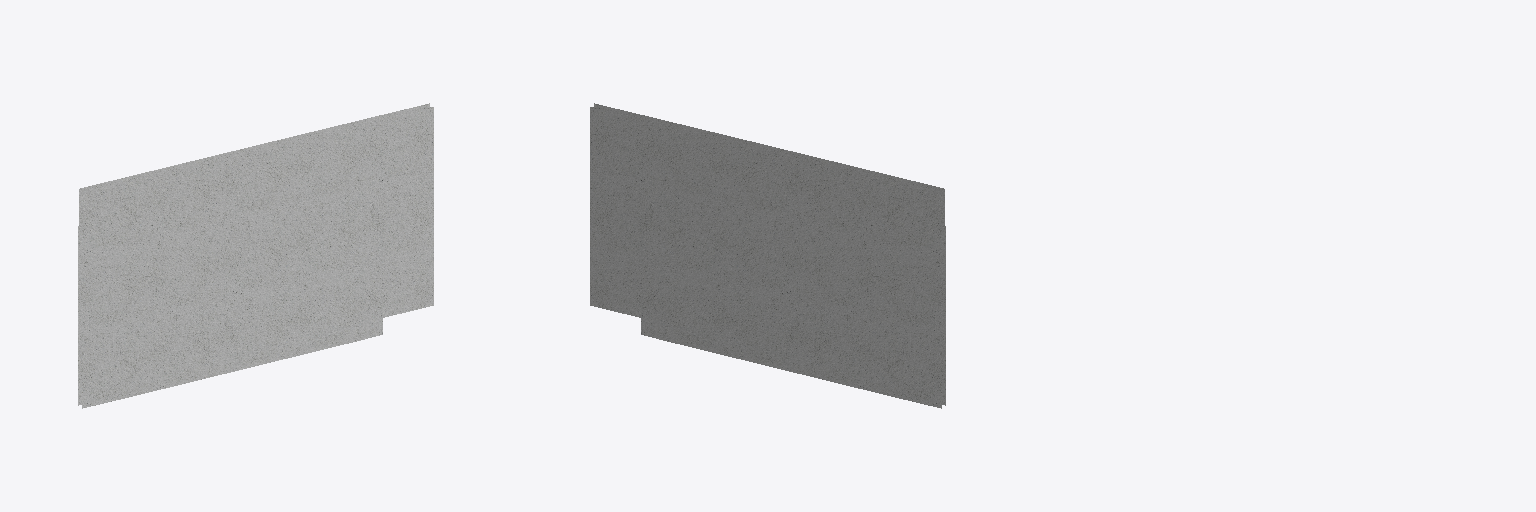
3 views of the same model, side by side, from view 1: azimuth 30°, elevation 25°; view 2: azimuth 150°, elevation 25°; view 3: azimuth 270°, elevation 25° (orthographic).
Parts seen in each view (by area): view 1: floor_8; view 2: floor_8; view 3: none.
Boxes of the visible parts, <box> form: floor_8: <box>78,103,433,408</box>; floor_8: <box>590,103,945,408</box>.
Size of the model in its own units: 4.81 by 2.84 by 0.1.
1 materials, 1 textured.